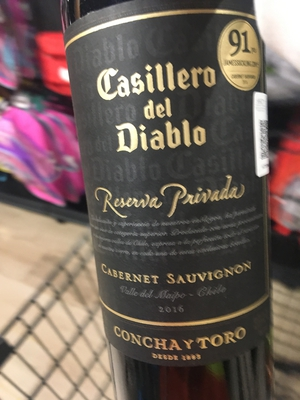casillero del diablo reserva privada cabernet sauvignon: (60, 6, 284, 396)
